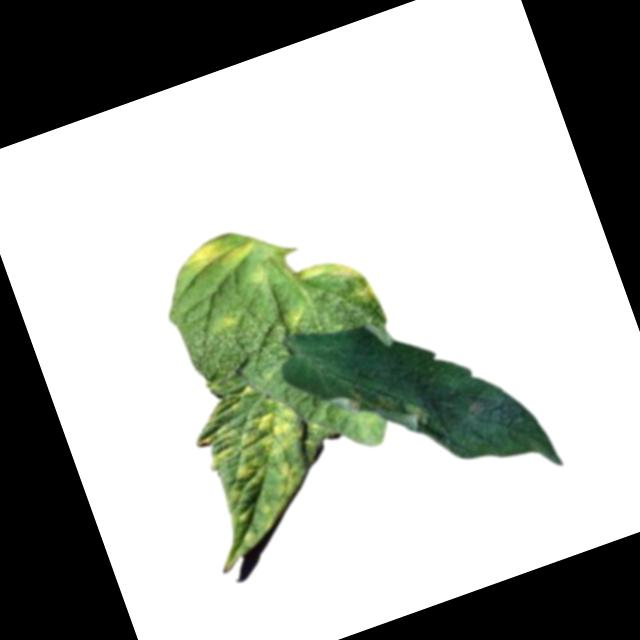Leaf_Mold: (188, 387, 336, 556), (326, 360, 434, 455), (296, 249, 376, 322), (179, 226, 257, 284), (213, 306, 244, 336), (280, 306, 305, 332)
